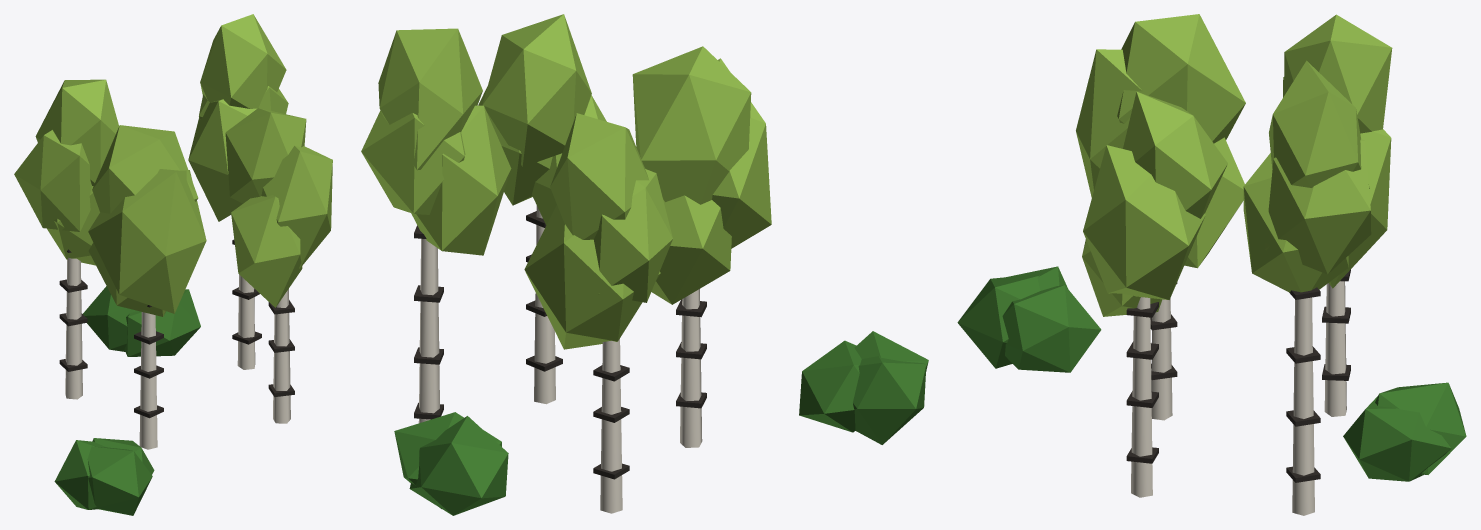
The model's file is sawyer_birch_copse_b.glb.
3 renders of one model, left to right at view 1: azimuth 30°, elevation 25°; view 2: azimuth 150°, elevation 25°; view 3: azimuth 270°, elevation 25°, orthographic. The views are drawn at different scales.
Parts seen in each view (by area): view 1: birch_1_crown1, birch_0_crown2, birch_2_crown1, birch_3_crown0, birch_3_crown1, birch_3_crown2, birch_1_crown2, birch_2_crown2, birch_0_crown0, bush_4_leaves1, bush_5_leaves1, birch_2_trunk (+9 smaller); view 2: birch_1_crown2, birch_3_crown2, birch_0_crown2, birch_2_crown0, birch_2_crown2, birch_0_crown0, bush_5_leaves0, birch_2_crown1, birch_0_crown1, birch_1_crown0, bush_4_leaves2, birch_1_crown1 (+9 smaller); view 3: birch_3_crown1, birch_1_crown2, birch_0_crown2, birch_0_crown1, birch_3_crown2, birch_2_crown2, bush_4_leaves0, bush_5_leaves1, birch_0_crown0, birch_1_crown1, birch_0_trunk, bush_4_leaves1 (+8 smaller).
Boxes of the visible parts, <box> form: birch_1_crown1: <box>88,169,206,313</box>; birch_0_crown2: <box>200,14,286,108</box>; birch_2_crown1: <box>14,130,91,231</box>; birch_3_crown0: <box>231,195,302,307</box>; birch_3_crown1: <box>261,145,332,268</box>; birch_3_crown2: <box>225,108,306,203</box>; birch_1_crown2: <box>92,125,198,213</box>; birch_2_crown2: <box>35,79,119,185</box>; birch_0_crown0: <box>188,99,256,221</box>; bush_4_leaves1: <box>87,446,152,515</box>; bush_5_leaves1: <box>124,289,200,356</box>; birch_2_trunk: <box>65,257,82,399</box>; birch_1_crown2: <box>632,46,751,204</box>; birch_3_crown2: <box>482,14,591,166</box>; birch_0_crown2: <box>378,28,482,170</box>; birch_2_crown0: <box>524,205,660,349</box>; birch_2_crown2: <box>550,113,648,239</box>; birch_0_crown0: <box>411,105,511,255</box>; bush_5_leaves0: <box>409,416,508,515</box>; birch_2_crown1: <box>594,169,672,302</box>; birch_0_crown1: <box>361,110,465,214</box>; birch_1_crown0: <box>651,195,731,304</box>; bush_4_leaves2: <box>853,356,926,444</box>; birch_1_crown1: <box>712,58,771,248</box>; birch_3_crown1: <box>1083,145,1205,299</box>; birch_1_crown2: <box>1117,14,1245,143</box>; birch_0_crown2: <box>1269,60,1369,188</box>; birch_0_crown1: <box>1264,139,1371,274</box>; birch_3_crown2: <box>1123,91,1227,218</box>; birch_2_crown2: <box>1284,14,1392,133</box>; bush_4_leaves0: <box>1002,285,1101,372</box>; bush_5_leaves1: <box>1343,396,1451,481</box>; birch_0_crown0: <box>1243,153,1348,292</box>; birch_1_crown1: <box>1076,49,1142,197</box>; birch_0_trunk: <box>1292,297,1314,515</box>; bush_4_leaves1: <box>957,275,1040,368</box>.
Bounding box in the file's own units: 3.66 × 3.65 × 3.83.
